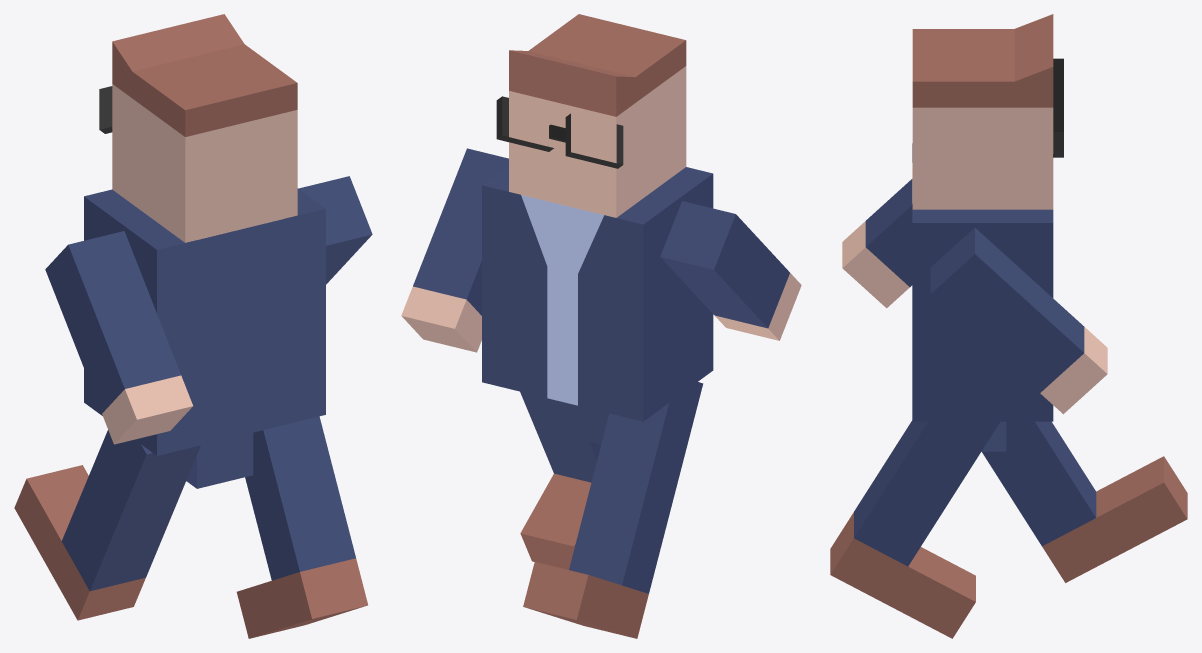
Rendered from sidewalk-headhunter-jump-1.glb.
3 renders of one model, left to right at view 1: azimuth 30°, elevation 25°; view 2: azimuth 150°, elevation 25°; view 3: azimuth 270°, elevation 25°, orthographic. The views are drawn at different scales.
Visible parts, largest first — view 1: UNIT.021, UNIT.025, UNIT.024, UNIT.023, UNIT.022; view 2: UNIT.021, UNIT.025, UNIT.023, UNIT.022, UNIT.024; view 3: UNIT.021, UNIT.024, UNIT.025, UNIT.022, UNIT.023.
Boxes of the visible parts, <box> form: UNIT.021: <box>84,14,325,488</box>; UNIT.025: <box>14,430,200,620</box>; UNIT.024: <box>236,416,367,638</box>; UNIT.023: <box>45,231,192,444</box>; UNIT.022: <box>298,176,372,284</box>; UNIT.021: <box>482,14,713,444</box>; UNIT.025: <box>523,375,703,638</box>; UNIT.023: <box>660,201,801,340</box>; UNIT.022: <box>401,148,508,352</box>; UNIT.024: <box>520,391,600,569</box>; UNIT.021: <box>912,14,1063,451</box>; UNIT.024: <box>830,366,999,638</box>; UNIT.025: <box>982,421,1187,582</box>; UNIT.022: <box>930,228,1107,414</box>; UNIT.023: <box>842,179,912,308</box>.
Size of the model in its own units: 0.7001 by 1.38 by 0.7982.
Materials: 1 (1 with a texture image).
